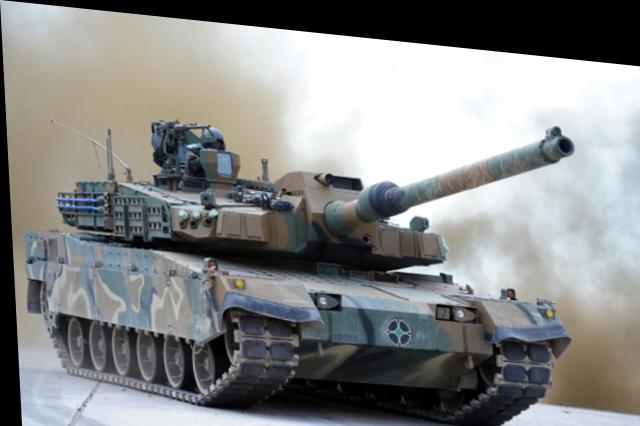other: (21, 127, 566, 419)
